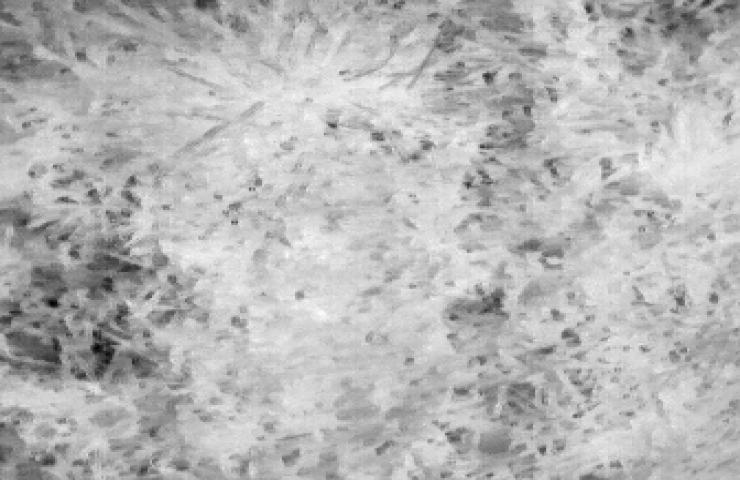landmines: (266, 227, 354, 328)
